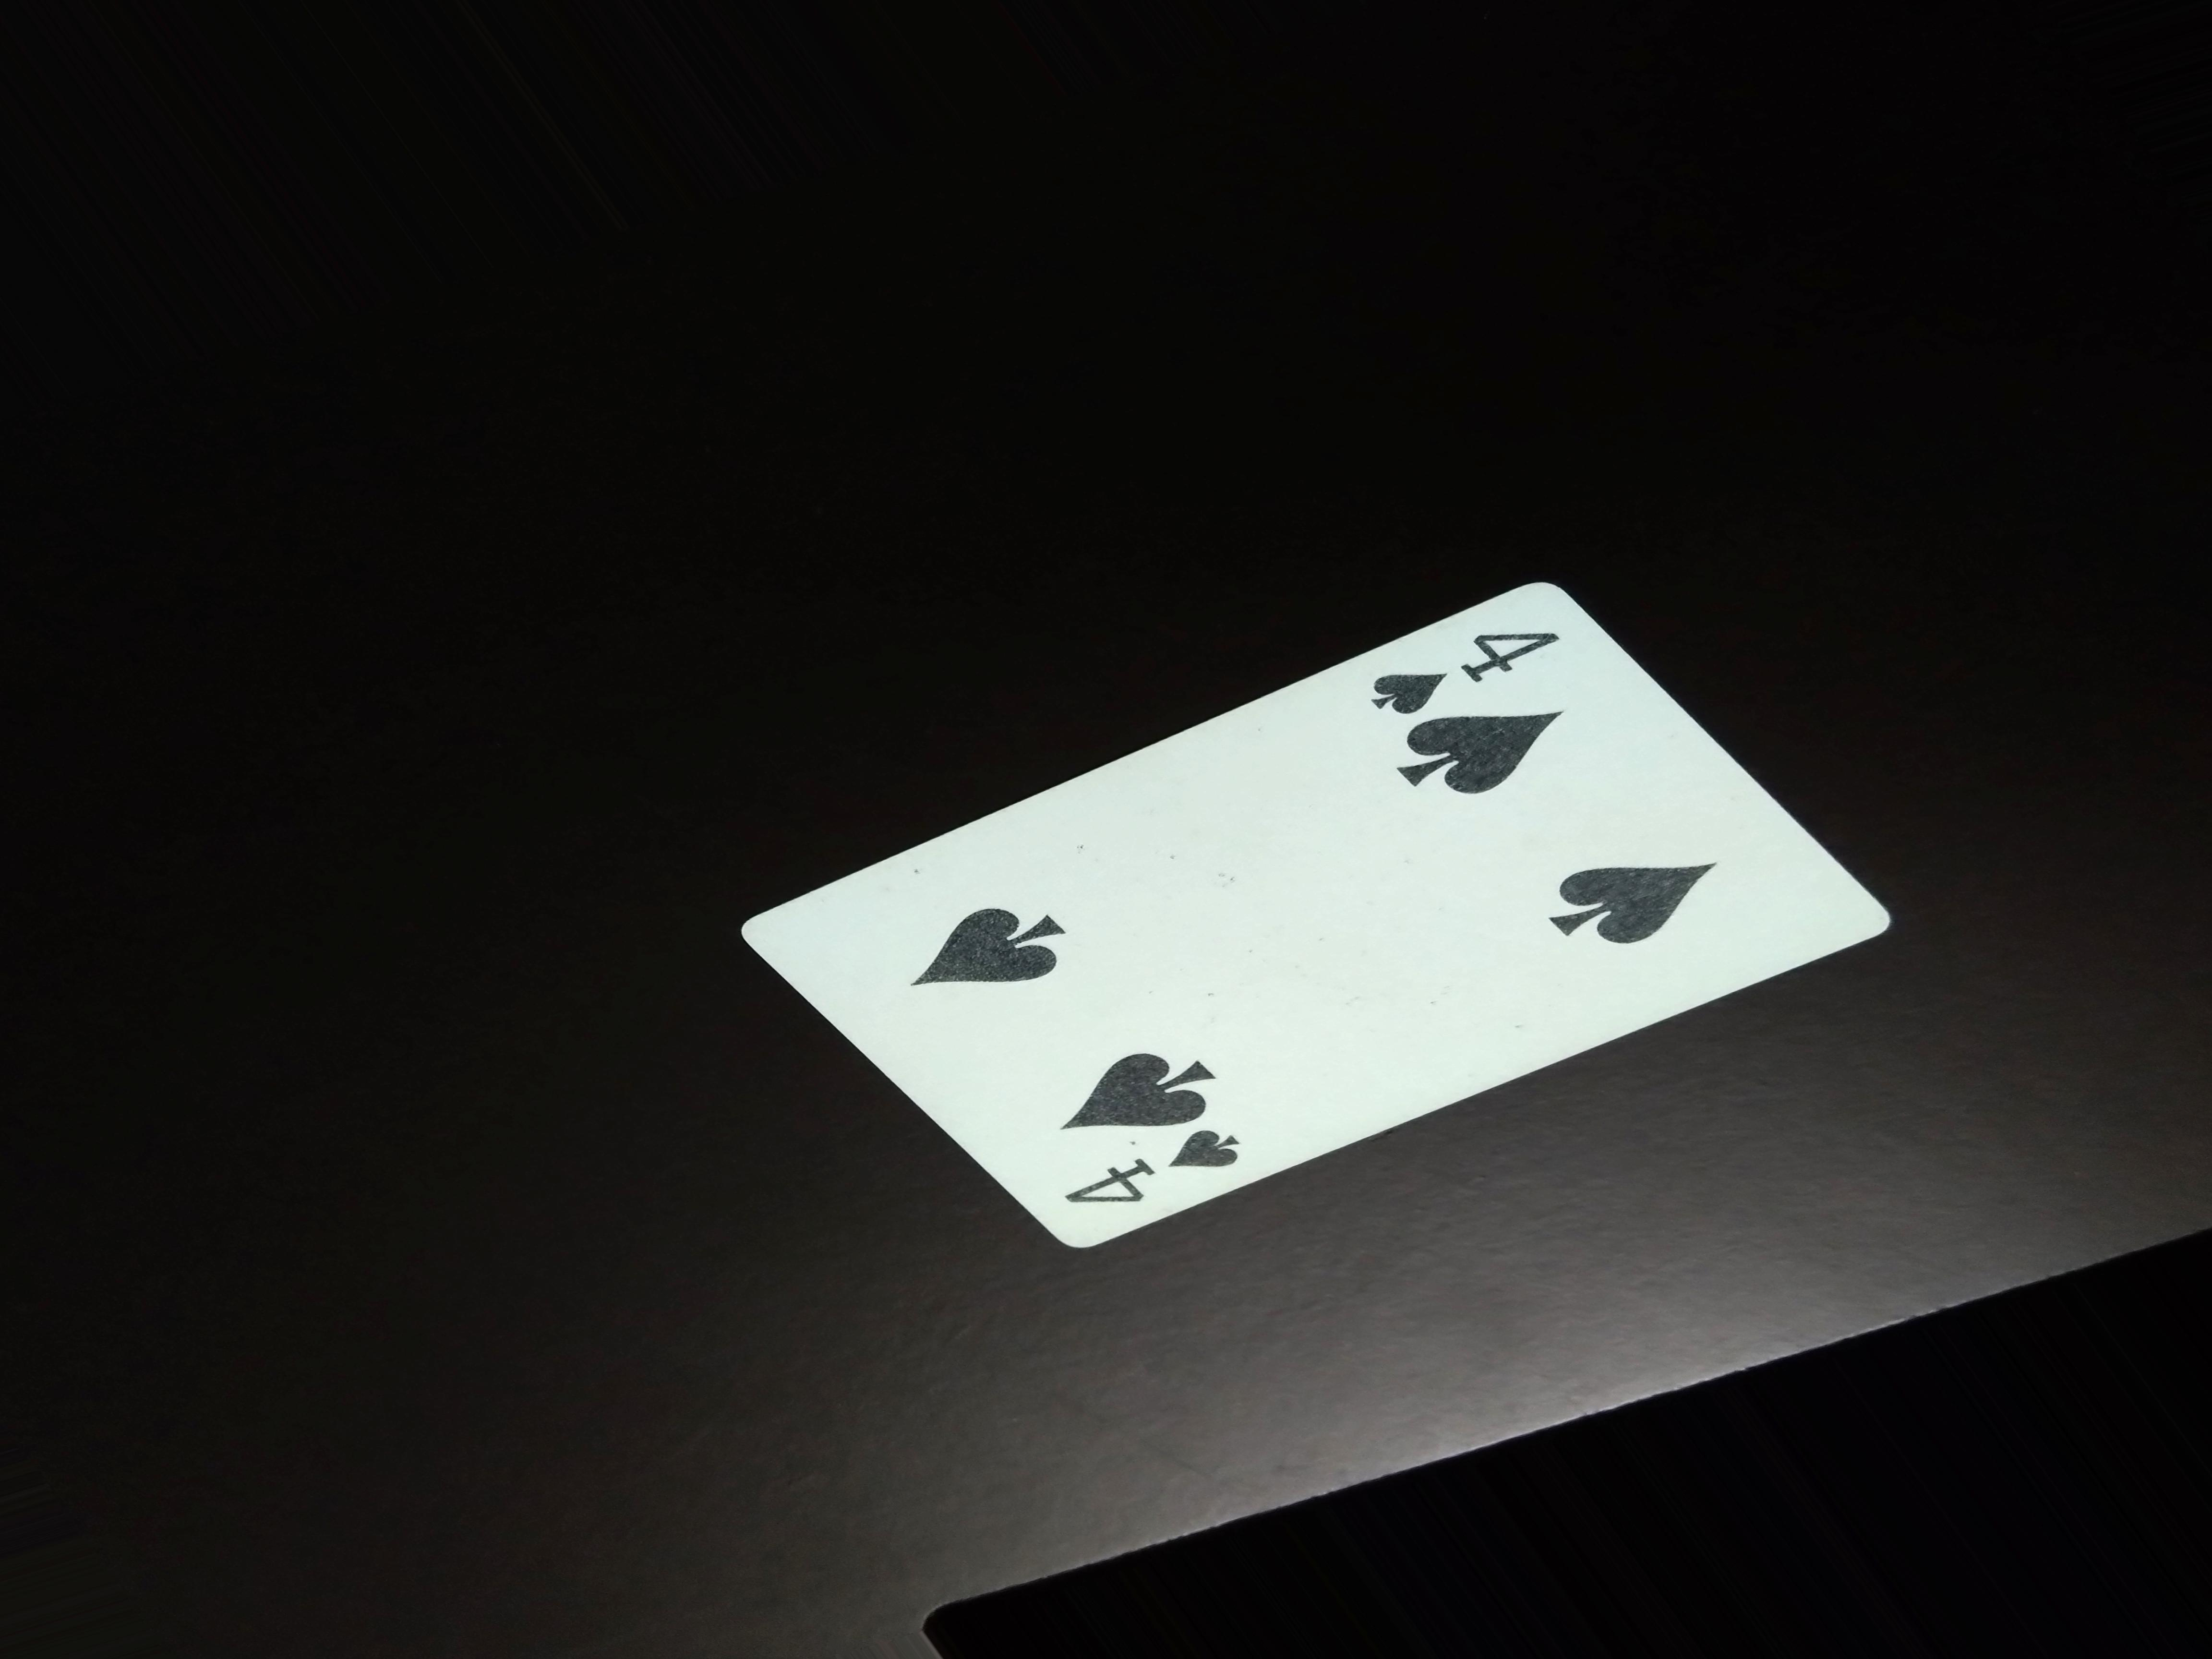4S: (1366, 608, 1557, 723)
